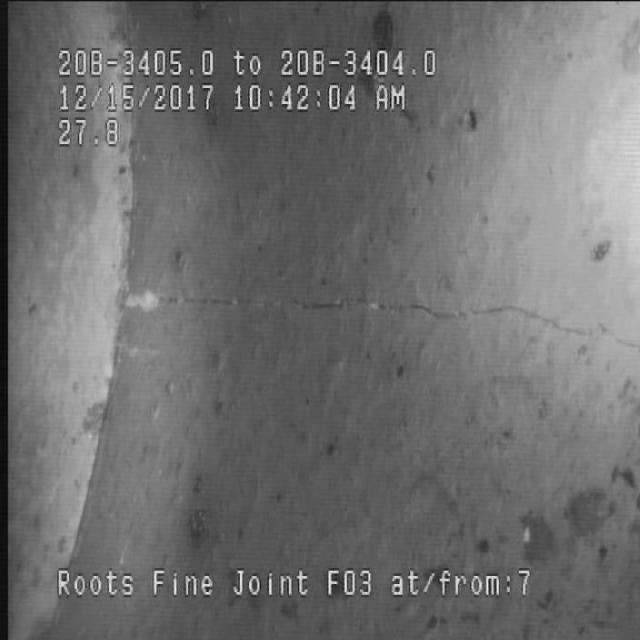Crack: (141, 264, 593, 352)
